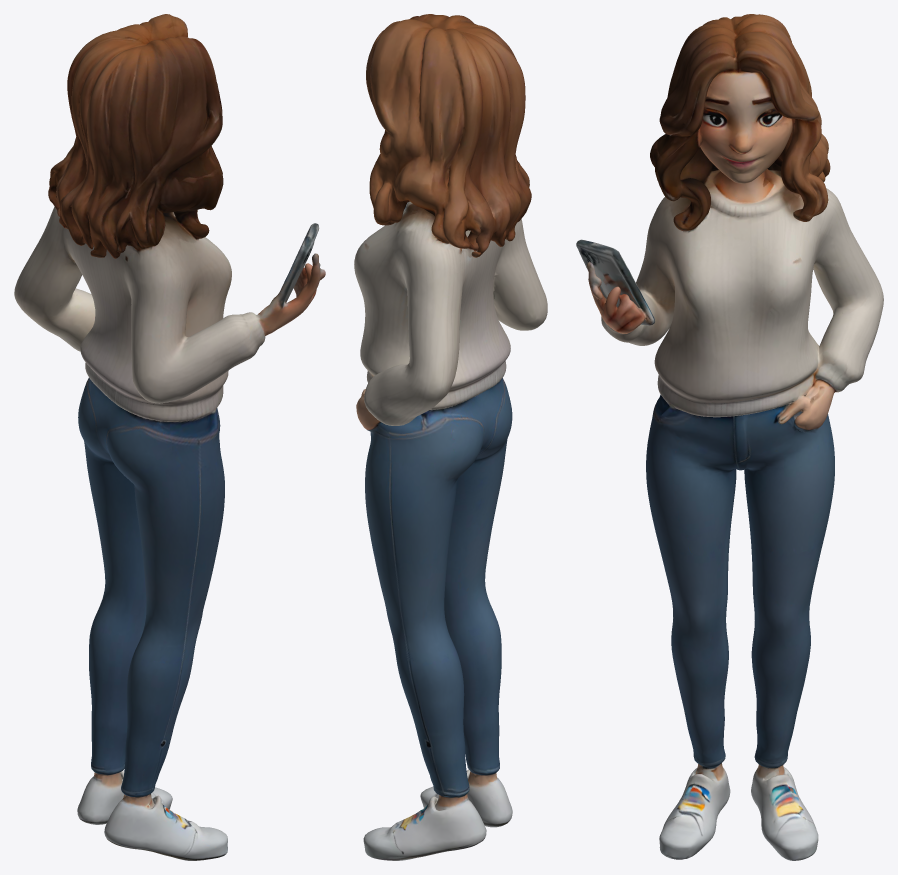
Rendered from girl .glb.
3 renders of one model, left to right at view 1: azimuth 30°, elevation 25°; view 2: azimuth 150°, elevation 25°; view 3: azimuth 270°, elevation 25°, orthographic.
Visible parts, largest first — view 1: vrin_node_da904b13-f585-49fe-8382-13e2bc7ad088; view 2: vrin_node_da904b13-f585-49fe-8382-13e2bc7ad088; view 3: vrin_node_da904b13-f585-49fe-8382-13e2bc7ad088.
Boxes of the visible parts, x1,y1,x2,y2 form: vrin_node_da904b13-f585-49fe-8382-13e2bc7ad088: [14, 14, 325, 860]; vrin_node_da904b13-f585-49fe-8382-13e2bc7ad088: [354, 14, 547, 860]; vrin_node_da904b13-f585-49fe-8382-13e2bc7ad088: [576, 14, 883, 860].
Size of the model in its own units: 0.238 by 1 by 0.3417.
Materials: 1 (1 with a texture image).
